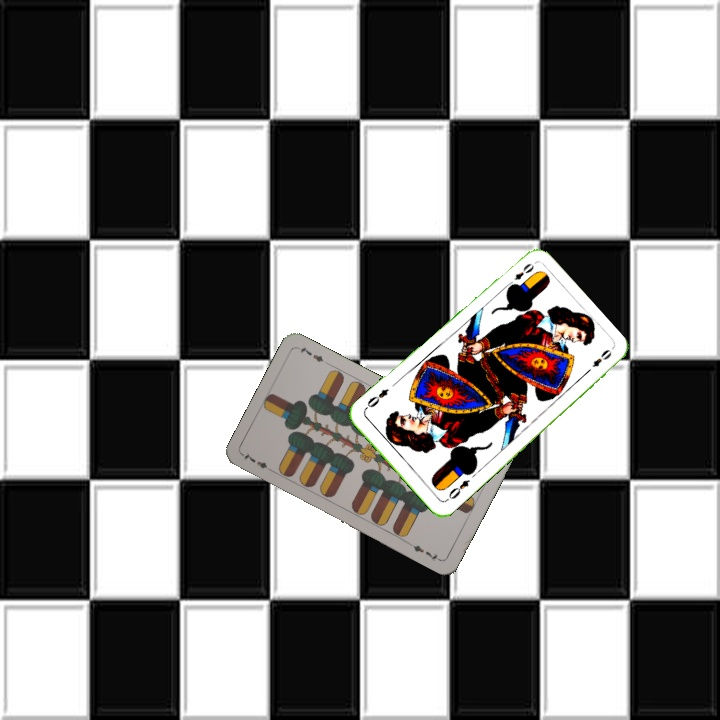E7: (239, 448, 276, 475)
EO: (502, 259, 537, 290), (442, 475, 472, 504)
